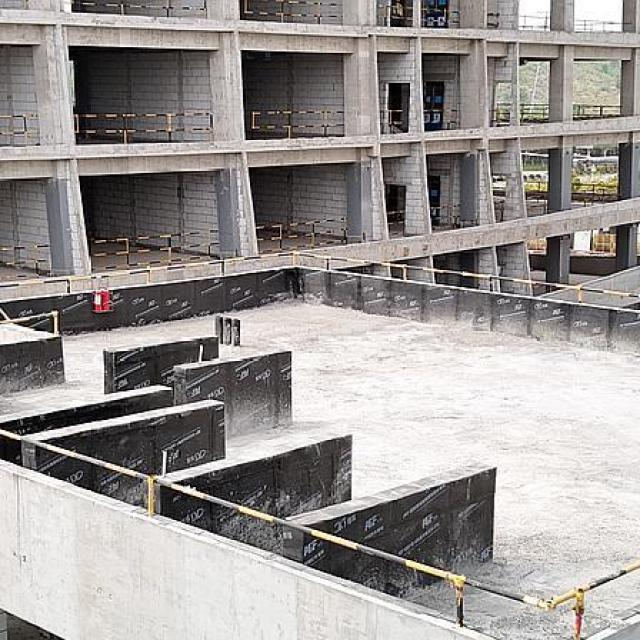edge_guardrail: (0, 428, 640, 640), (0, 251, 640, 305), (90, 230, 220, 270), (74, 113, 210, 144), (254, 217, 349, 254), (252, 111, 344, 138), (244, 0, 344, 23), (72, 0, 207, 17), (0, 244, 50, 280), (421, 1, 460, 26), (0, 114, 37, 140), (429, 204, 461, 225), (379, 110, 404, 133), (573, 104, 623, 115), (517, 15, 549, 32), (519, 104, 550, 119), (385, 4, 414, 20), (525, 195, 548, 214), (496, 103, 513, 123), (387, 210, 404, 226), (572, 183, 602, 191), (524, 181, 547, 189), (423, 108, 457, 113)
